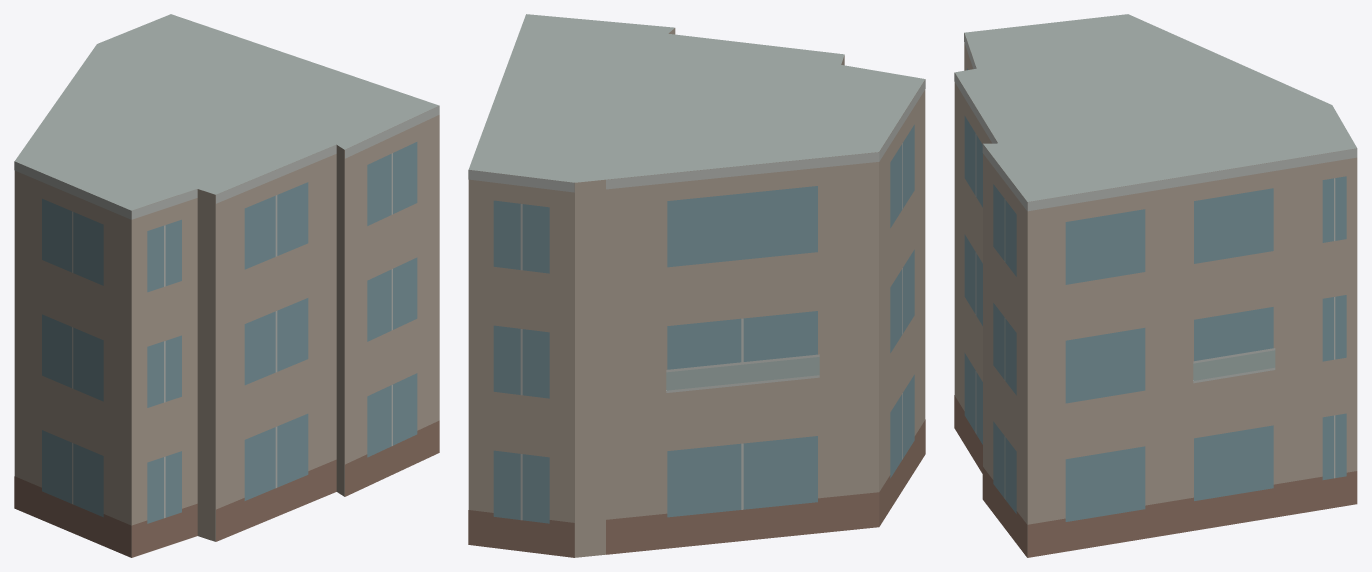
The model's file is survey-upis-32500973.glb.
The picture shows the model from 3 angles, left to right: view 1: azimuth 30°, elevation 25°; view 2: azimuth 150°, elevation 25°; view 3: azimuth 270°, elevation 25°; orthographic projection. The views are drawn at different scales.
Visible parts, largest first — view 1: survey-upis-32500973.tmp; view 2: survey-upis-32500973.tmp; view 3: survey-upis-32500973.tmp.
Boxes of the visible parts, bbox=[...] form: survey-upis-32500973.tmp: bbox=[14, 14, 439, 557]; survey-upis-32500973.tmp: bbox=[468, 14, 925, 557]; survey-upis-32500973.tmp: bbox=[954, 14, 1357, 557].
Size of the model in its own units: 10.55 by 9.3 by 9.55.
